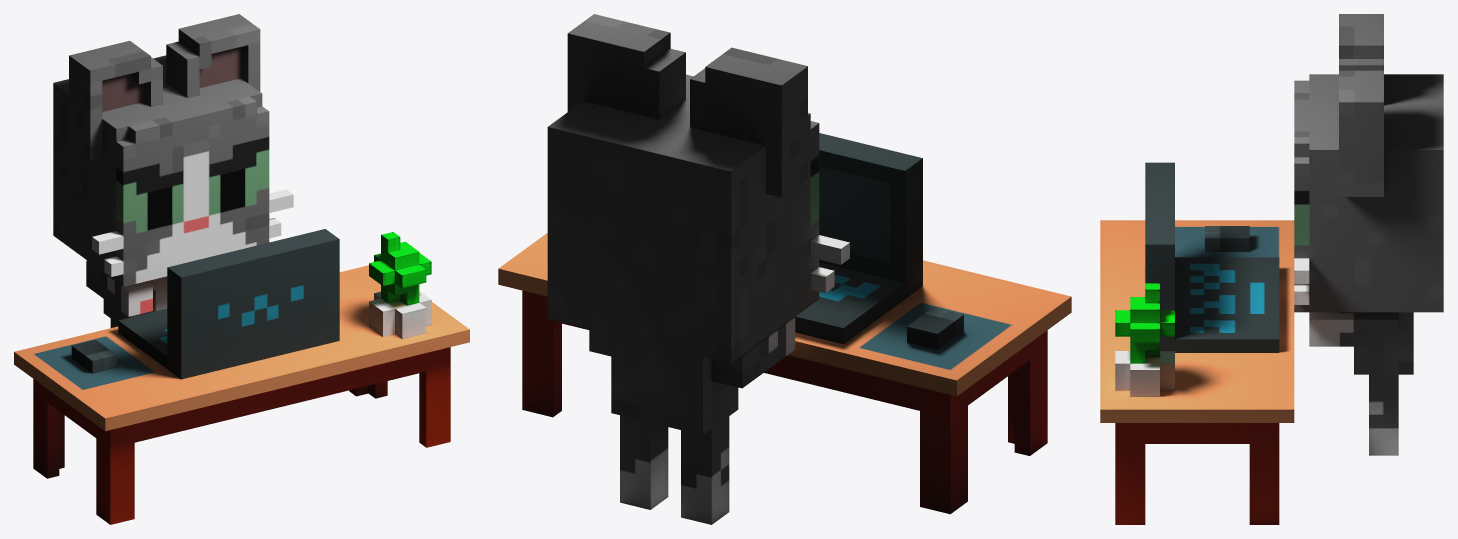
Rendered from cat-baked.glb.
3 renders of one model, left to right at view 1: azimuth 30°, elevation 25°; view 2: azimuth 150°, elevation 25°; view 3: azimuth 270°, elevation 25°, orthographic. The views are drawn at different scales.
Parts seen in each view (by area): view 1: Untitled; view 2: Untitled; view 3: Untitled.
Boxes of the visible parts, bbox=[...] form: Untitled: bbox=[14, 14, 469, 524]; Untitled: bbox=[498, 14, 1071, 524]; Untitled: bbox=[1100, 14, 1443, 524].
Size of what is drawn, in the model's own units: 3 by 2.8 by 2.3.
1 material, 1 textured.
